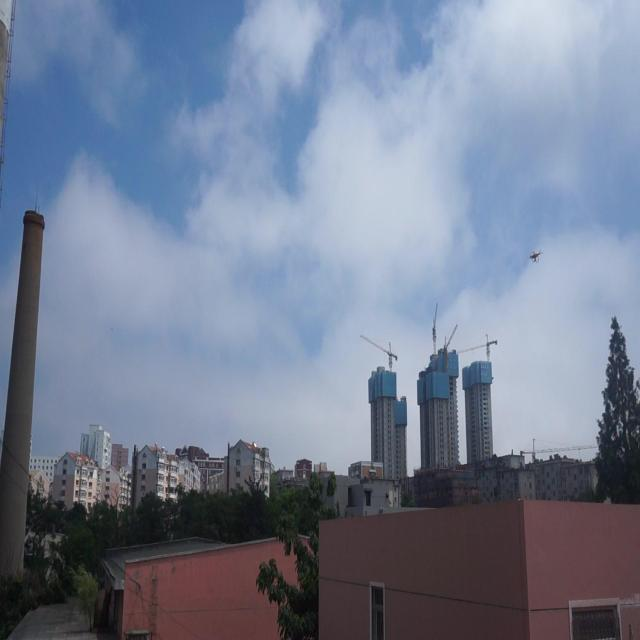drone: (526, 245, 543, 269)
